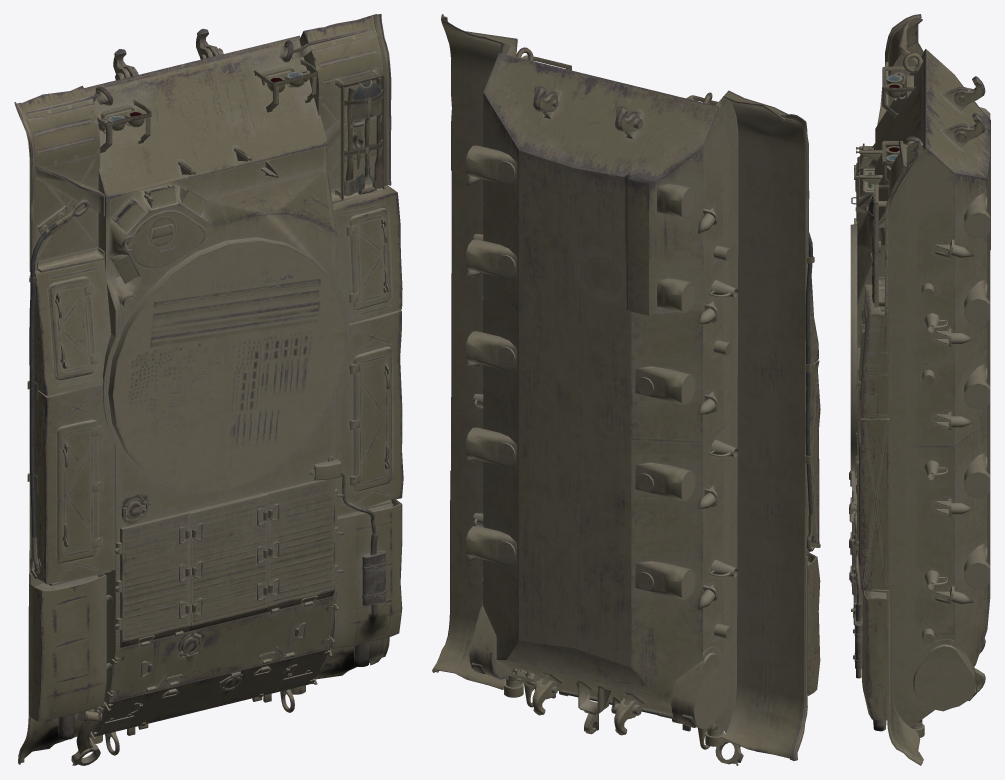
The model's file is Hull.glb.
The picture shows the model from 3 angles, left to right: view 1: azimuth 30°, elevation 25°; view 2: azimuth 150°, elevation 25°; view 3: azimuth 270°, elevation 25°; orthographic projection. The views are drawn at different scales.
Visible parts, largest first — view 1: set_0_group_0; view 2: set_0_group_0; view 3: set_0_group_0.
Boxes of the visible parts, <box> form: set_0_group_0: <box>14,14,403,765</box>; set_0_group_0: <box>432,14,820,765</box>; set_0_group_0: <box>849,14,990,765</box>.
Bounding box in the file's own units: 3.27 × 5.82 × 1.2.
1 material, 1 textured.
